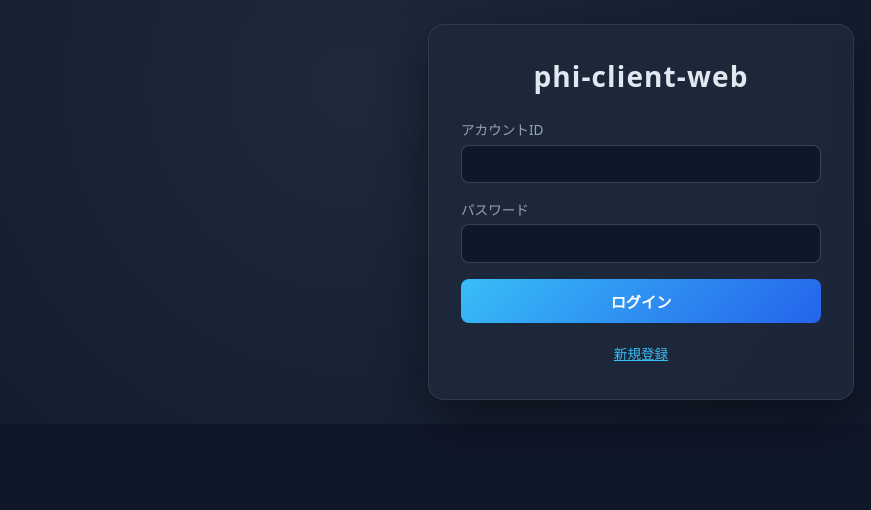
it: Login (A-34, アカウント+パスワード) › 新規登録: ID+パスワード+確認→register→ログイン画面へ案内
Click the button "新規登録" at point(641, 353), box left=461, top=339, right=821, bottom=367
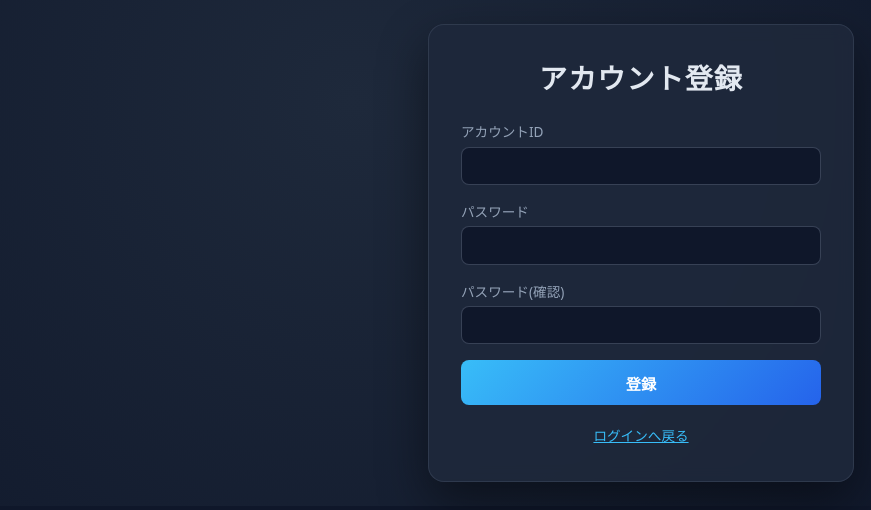
Type "new-acc" into the field labelled "アカウントID" at point(641, 166), box left=461, top=147, right=821, bottom=185
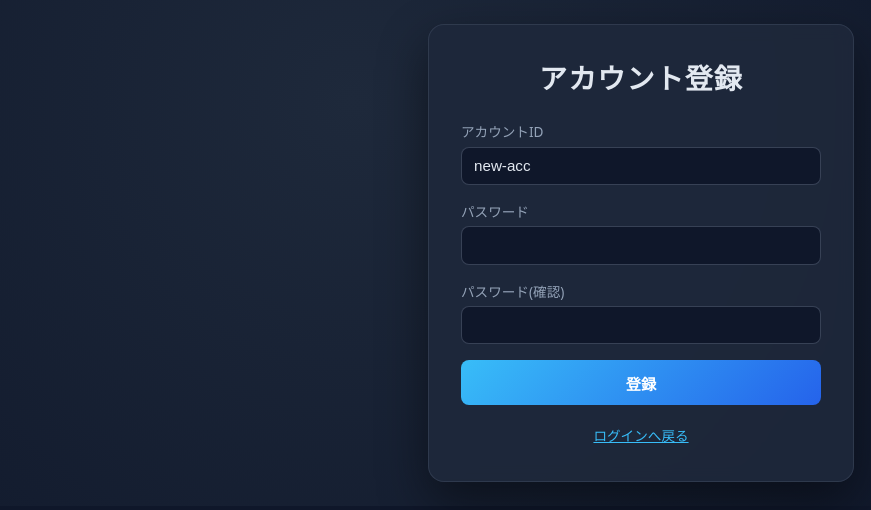
Type "secret" into the password field labelled "パスワード" at point(641, 246), box left=461, top=226, right=821, bottom=265
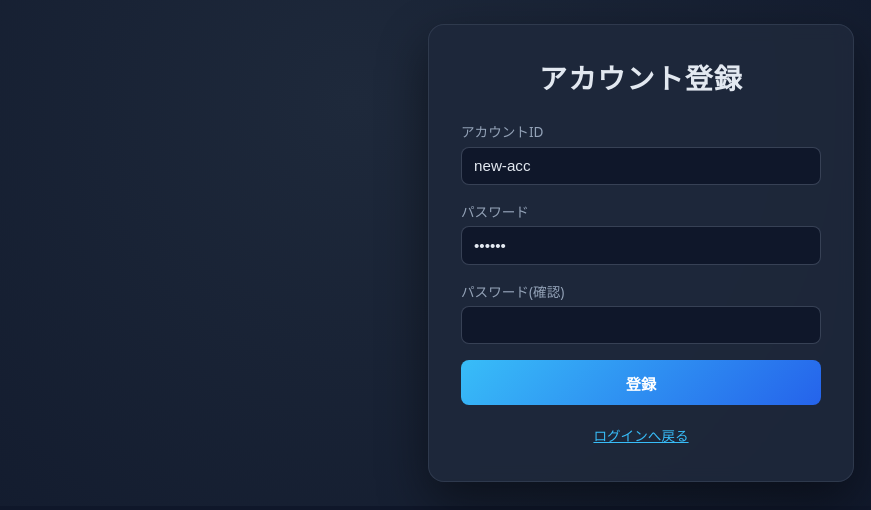
Type "secret" into the password field labelled "パスワード(確認)" at point(641, 325), box left=461, top=306, right=821, bottom=344
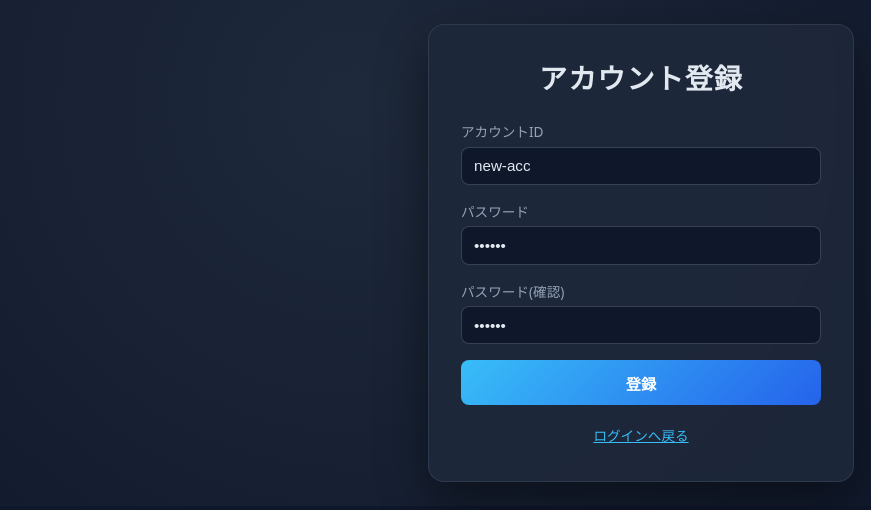
Click the button "登録" at point(641, 382), box left=461, top=360, right=821, bottom=405
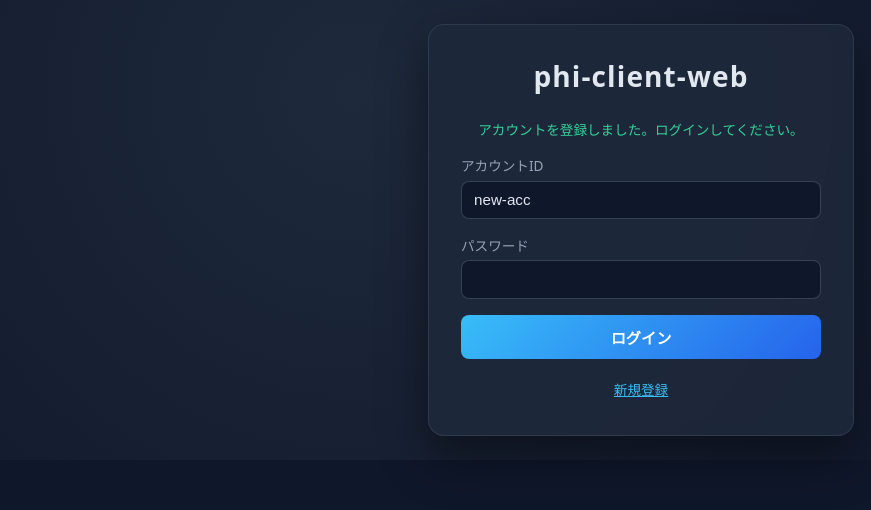
Result: the message shows "登録" at left=461, top=119, right=821, bottom=139
